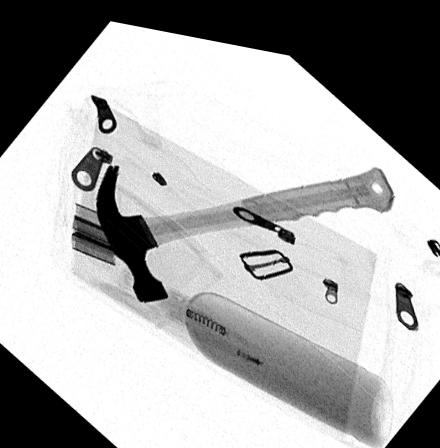Hammer: (95, 150, 395, 297)
